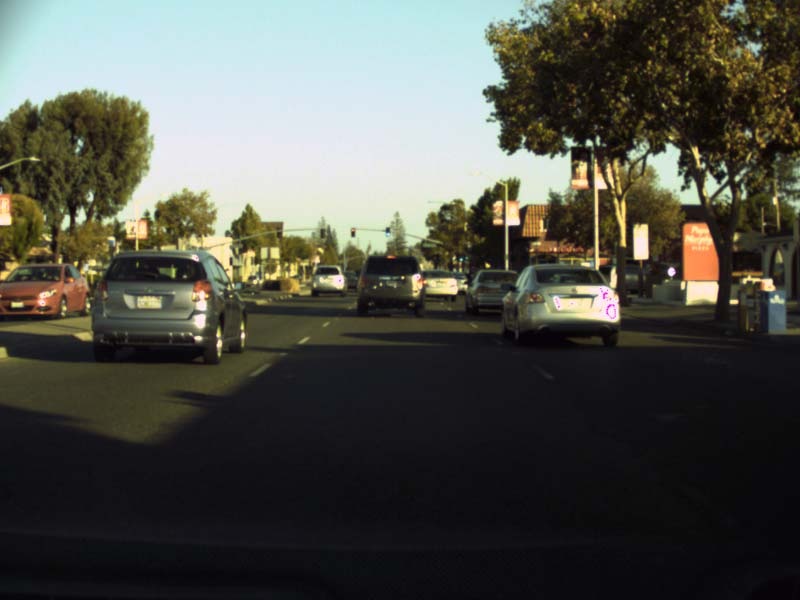Green: (384, 227, 390, 236), (459, 252, 462, 261)
Red: (350, 227, 355, 235)
